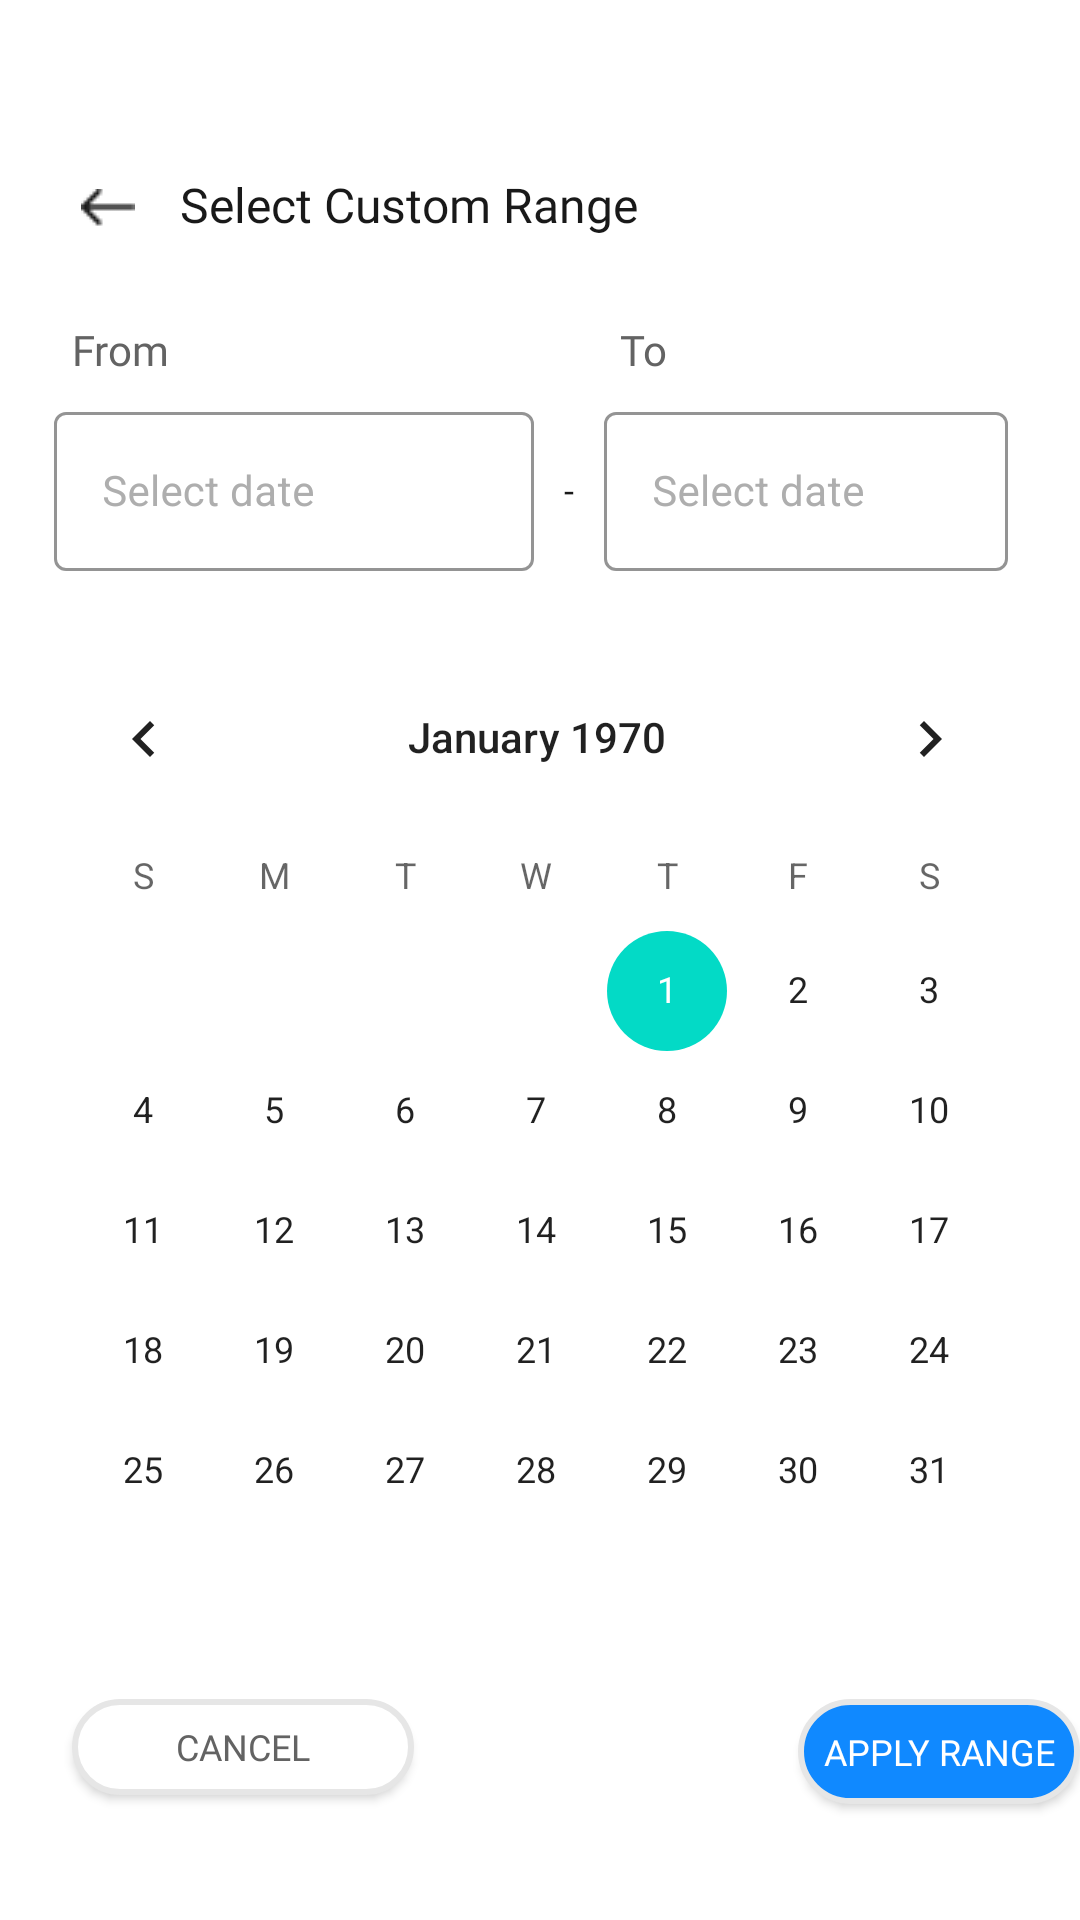

Icons on this 1080w x 1920h Android screen, each with the point to tap as (x=x, y=y):
arrow round back: (x=108, y=207)
